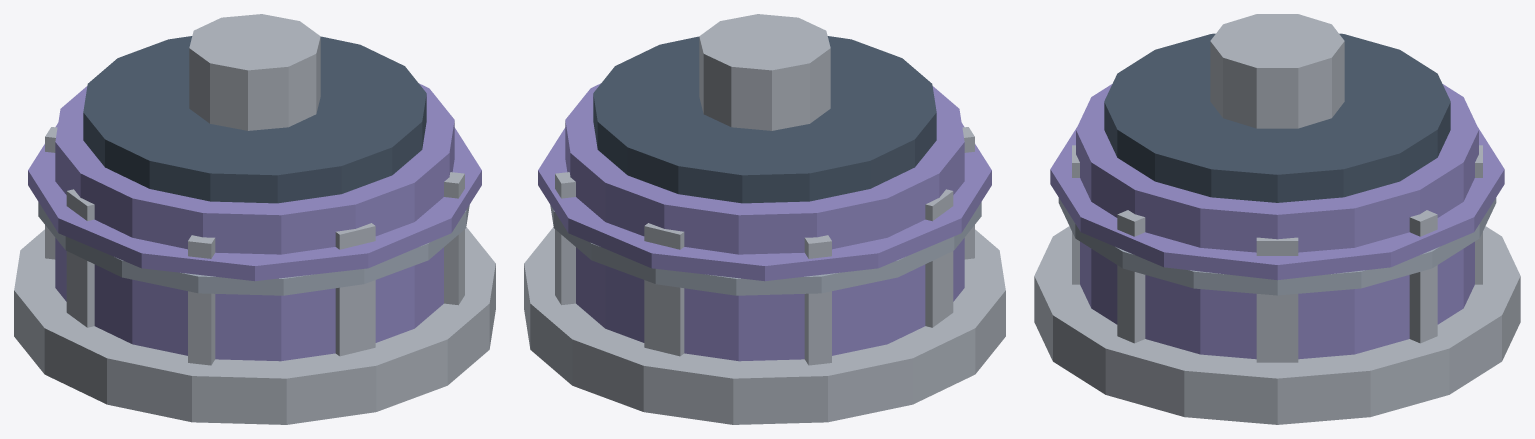
File: motor-race.glb
The picture shows the model from 3 angles, left to right: view 1: azimuth 30°, elevation 25°; view 2: azimuth 150°, elevation 25°; view 3: azimuth 270°, elevation 25°; orthographic projection.
Parts seen in each view (by area): view 1: 001_housing, 004_rotor_cap, 000_mount_base, 014_race_ring, 005_prop_shaft, 003_metallic_trim, 008_cooling_fins, 009_cooling_fins, 010_cooling_fins, 007_cooling_fins, 011_cooling_fins; view 2: 001_housing, 004_rotor_cap, 000_mount_base, 014_race_ring, 005_prop_shaft, 003_metallic_trim, 012_cooling_fins, 011_cooling_fins, 010_cooling_fins, 013_cooling_fins, 009_cooling_fins; view 3: 001_housing, 000_mount_base, 004_rotor_cap, 005_prop_shaft, 014_race_ring, 003_metallic_trim, 006_cooling_fins, 007_cooling_fins, 013_cooling_fins, 008_cooling_fins, 012_cooling_fins.
Part boxes in pixels (left/top/right/bottom): 001_housing: left=55, top=83, right=454, bottom=361; 004_rotor_cap: left=83, top=36, right=426, bottom=203; 000_mount_base: left=14, top=227, right=495, bottom=424; 014_race_ring: left=28, top=123, right=481, bottom=281; 005_prop_shaft: left=189, top=14, right=320, bottom=130; 003_metallic_trim: left=38, top=202, right=469, bottom=295; 008_cooling_fins: left=335, top=223, right=375, bottom=356; 009_cooling_fins: left=188, top=235, right=215, bottom=365; 010_cooling_fins: left=66, top=189, right=94, bottom=327; 007_cooling_fins: left=444, top=172, right=464, bottom=305; 011_cooling_fins: left=45, top=127, right=57, bottom=259; 001_housing: left=565, top=83, right=964, bottom=361; 004_rotor_cap: left=593, top=36, right=936, bottom=203; 000_mount_base: left=524, top=227, right=1005, bottom=424; 014_race_ring: left=538, top=123, right=991, bottom=281; 005_prop_shaft: left=699, top=14, right=830, bottom=130; 003_metallic_trim: left=550, top=202, right=981, bottom=295; 012_cooling_fins: left=644, top=223, right=684, bottom=356; 011_cooling_fins: left=804, top=235, right=831, bottom=365; 010_cooling_fins: left=925, top=189, right=953, bottom=327; 013_cooling_fins: left=555, top=172, right=575, bottom=305; 009_cooling_fins: left=962, top=127, right=974, bottom=259; 001_housing: left=1076, top=84, right=1478, bottom=359; 000_mount_base: left=1034, top=226, right=1520, bottom=424; 004_rotor_cap: left=1104, top=33, right=1450, bottom=202; 005_prop_shaft: left=1210, top=14, right=1344, bottom=128; 014_race_ring: left=1050, top=127, right=1504, bottom=280; 003_metallic_trim: left=1058, top=198, right=1496, bottom=295; 006_cooling_fins: left=1256, top=237, right=1298, bottom=362; 007_cooling_fins: left=1117, top=210, right=1145, bottom=343; 013_cooling_fins: left=1409, top=210, right=1437, bottom=343; 008_cooling_fins: left=1072, top=145, right=1079, bottom=284; 012_cooling_fins: left=1475, top=145, right=1482, bottom=284.
Bounding box in the file's own units: 0.76 × 0.485 × 0.76.
